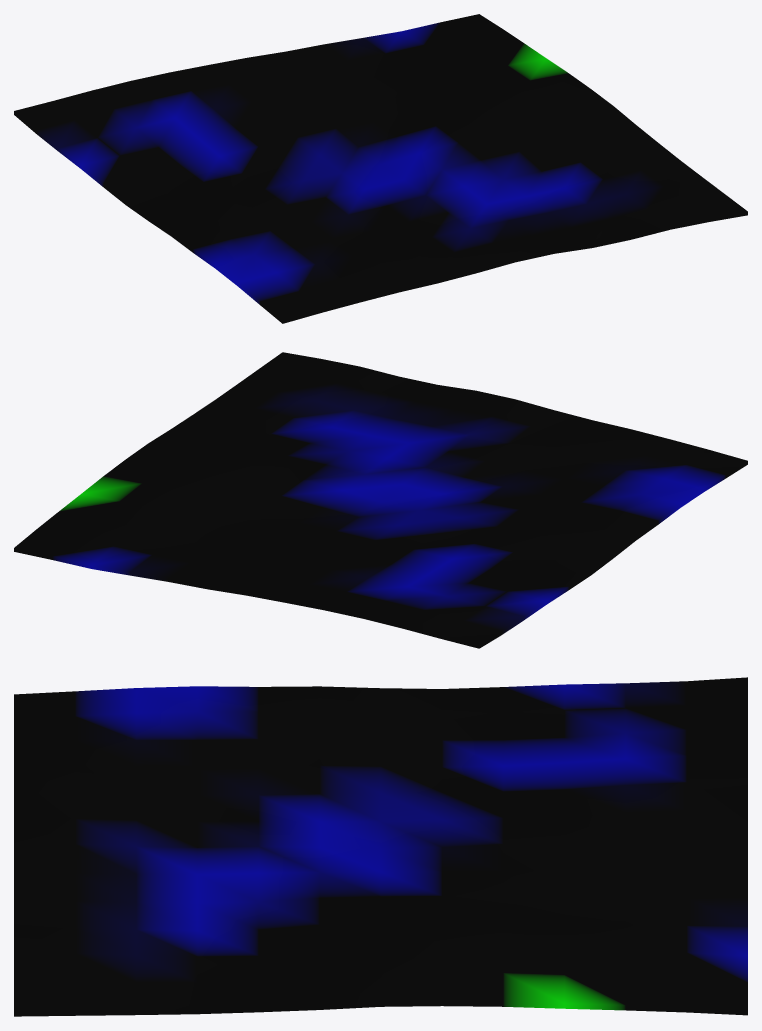
The model's file is coast_23_5.glb.
3 renders of one model, top to bottom at view 1: azimuth 30°, elevation 25°; view 2: azimuth 150°, elevation 25°; view 3: azimuth 270°, elevation 25°, orthographic. The views are drawn at different scales.
Parts seen in each view (by area): view 1: terrain; view 2: terrain; view 3: terrain.
Boxes of the visible parts, <box> form: terrain: <box>14,14,747,323</box>; terrain: <box>14,352,747,648</box>; terrain: <box>14,677,747,1016</box>.
Bounding box in the file's own units: 192 × 9.01 × 192.
